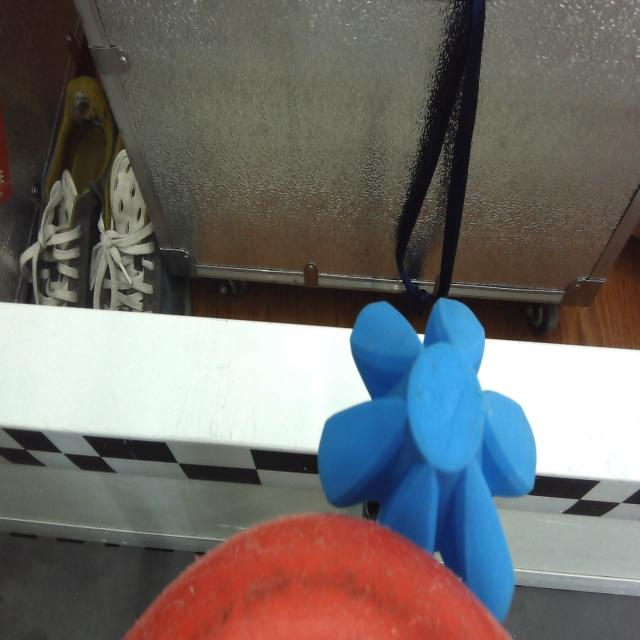zblue-Stake-Head: (318, 293, 538, 629)
